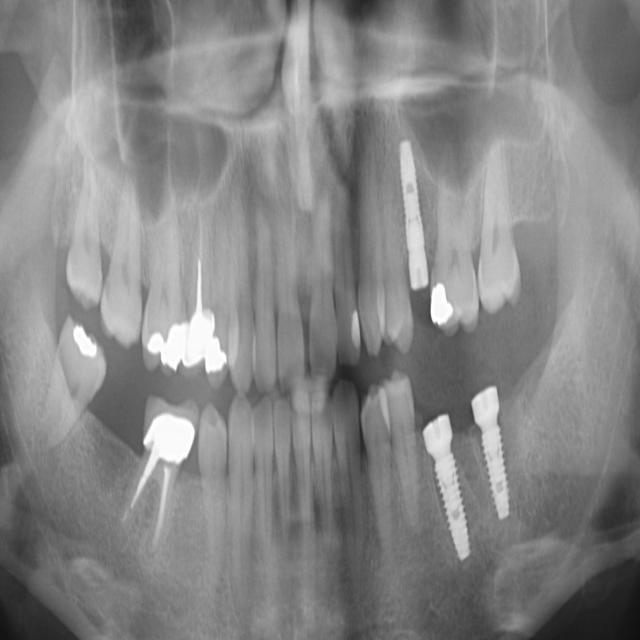dentin-curugu: (328, 376, 364, 425), (331, 330, 364, 370)
dolgu: (60, 314, 106, 382), (133, 321, 188, 374), (426, 279, 467, 333)
implant: (409, 394, 471, 560), (463, 389, 524, 541), (387, 140, 442, 308)
kanal-tedavisi: (132, 451, 182, 582), (180, 204, 222, 321)
kaplama: (140, 397, 207, 473), (185, 313, 219, 378)
